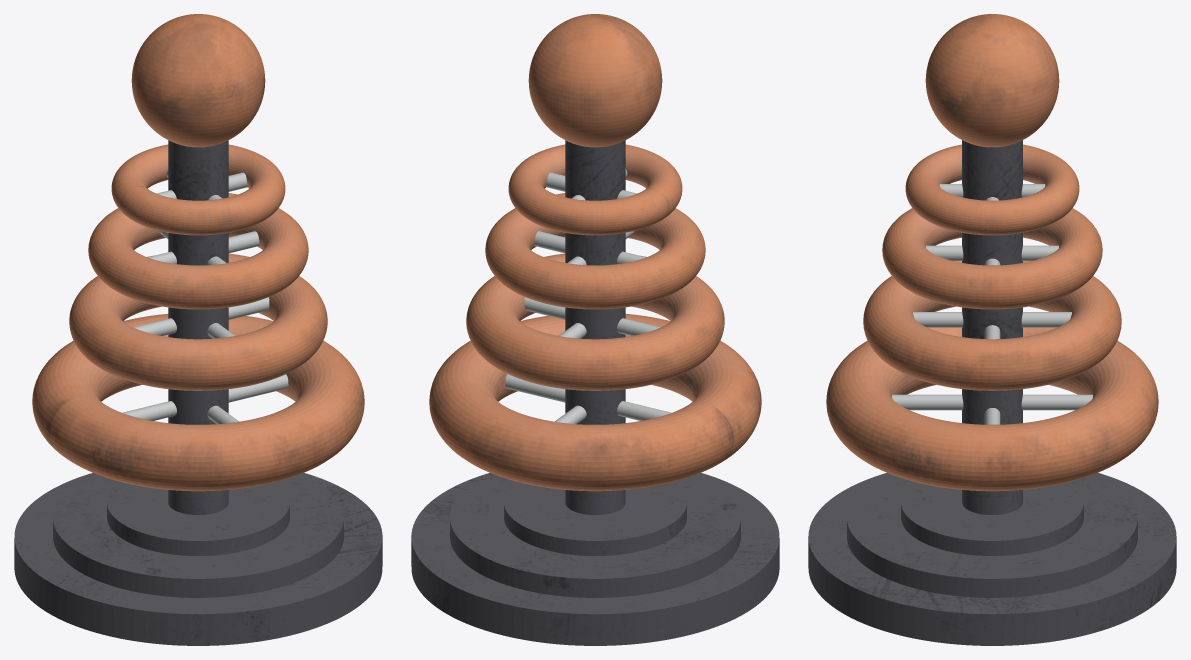
Rendered from SM_TeslaSpule.fbx.
3 views of the same model, side by side, from view 1: azimuth 30°, elevation 25°; view 2: azimuth 150°, elevation 25°; view 3: azimuth 270°, elevation 25° (orthographic).
Parts seen in each view (by area): view 1: TeslaSpuleLP; view 2: TeslaSpuleLP; view 3: TeslaSpuleLP.
Part boxes in pixels (left/top/right/bottom): TeslaSpuleLP: left=14, top=14, right=382, bottom=645; TeslaSpuleLP: left=411, top=14, right=779, bottom=645; TeslaSpuleLP: left=808, top=14, right=1176, bottom=645.
Size of the model in its own units: 200 by 329 by 200.
